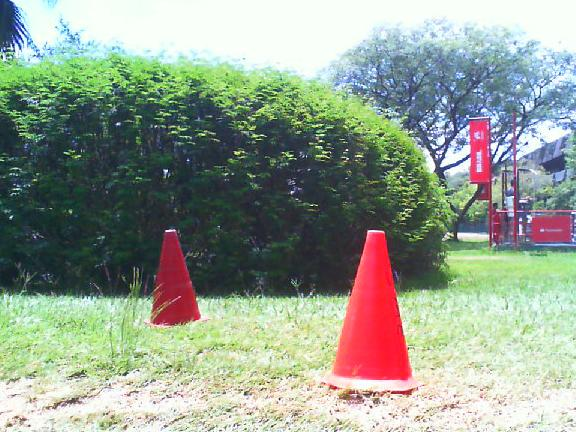0 cone: (317, 229, 426, 392), (142, 229, 208, 329)
